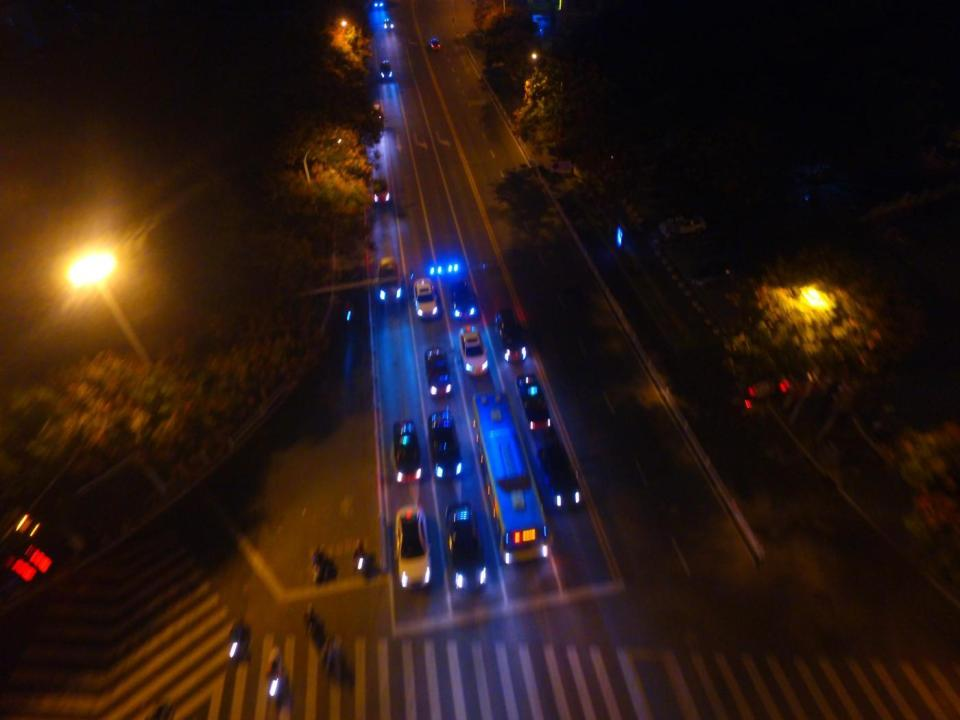bus: (470, 392, 552, 564)
car: (444, 503, 487, 589), (394, 506, 429, 592), (537, 444, 582, 509), (428, 412, 463, 480), (390, 418, 420, 483), (517, 375, 549, 433), (496, 309, 528, 365), (687, 255, 734, 287), (458, 327, 488, 377), (425, 347, 453, 398), (657, 210, 706, 238), (376, 255, 402, 305), (412, 278, 440, 319), (448, 286, 478, 322), (370, 180, 390, 206), (379, 60, 394, 82), (382, 18, 394, 31), (432, 38, 442, 51)
